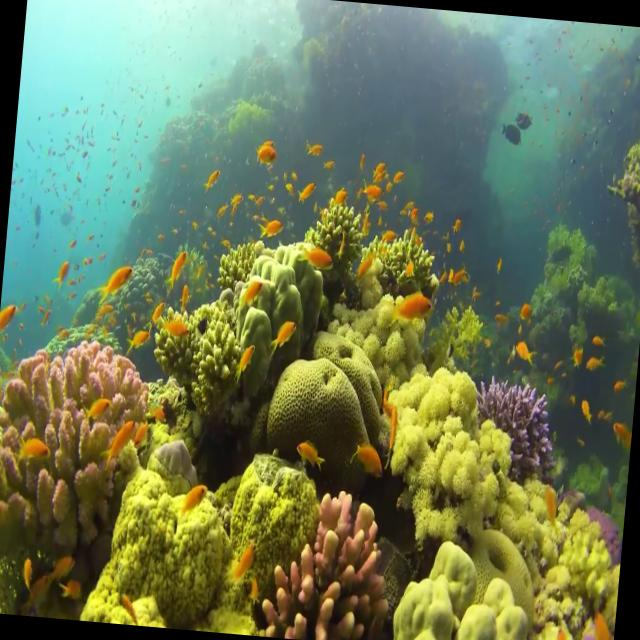fish: (96, 404, 134, 482), (388, 282, 435, 336), (96, 250, 136, 302), (12, 423, 60, 466), (114, 318, 156, 366), (223, 531, 257, 588), (288, 429, 328, 476), (293, 233, 332, 280), (176, 467, 210, 516), (347, 434, 386, 476), (228, 330, 255, 390), (233, 266, 263, 318), (344, 247, 378, 291), (272, 313, 302, 361), (256, 202, 288, 246), (0, 283, 23, 339), (159, 242, 187, 286), (84, 382, 118, 418), (574, 390, 598, 440), (201, 158, 228, 202), (252, 130, 282, 169), (292, 166, 318, 209), (581, 347, 612, 382), (513, 336, 543, 372), (606, 416, 632, 456), (50, 249, 70, 299), (358, 171, 384, 209), (608, 366, 634, 404), (589, 604, 616, 640), (303, 125, 326, 160), (500, 122, 524, 151), (550, 616, 576, 640), (516, 300, 540, 325), (511, 110, 537, 132), (568, 338, 587, 367)
